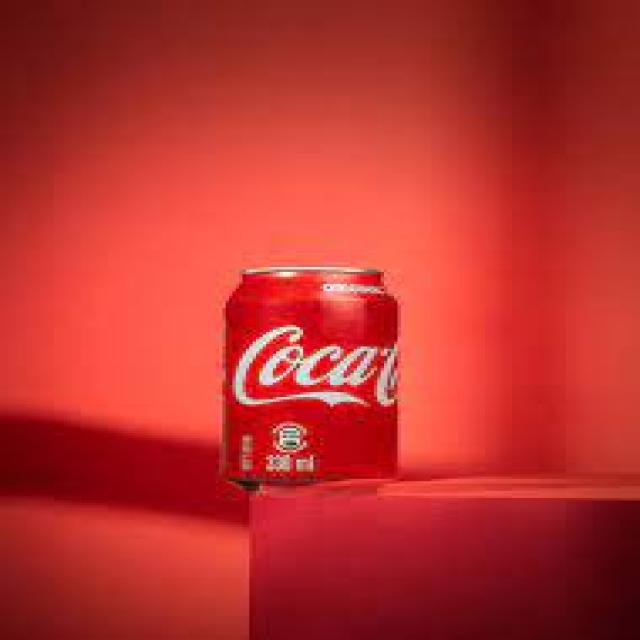Cans: (212, 262, 414, 506)
